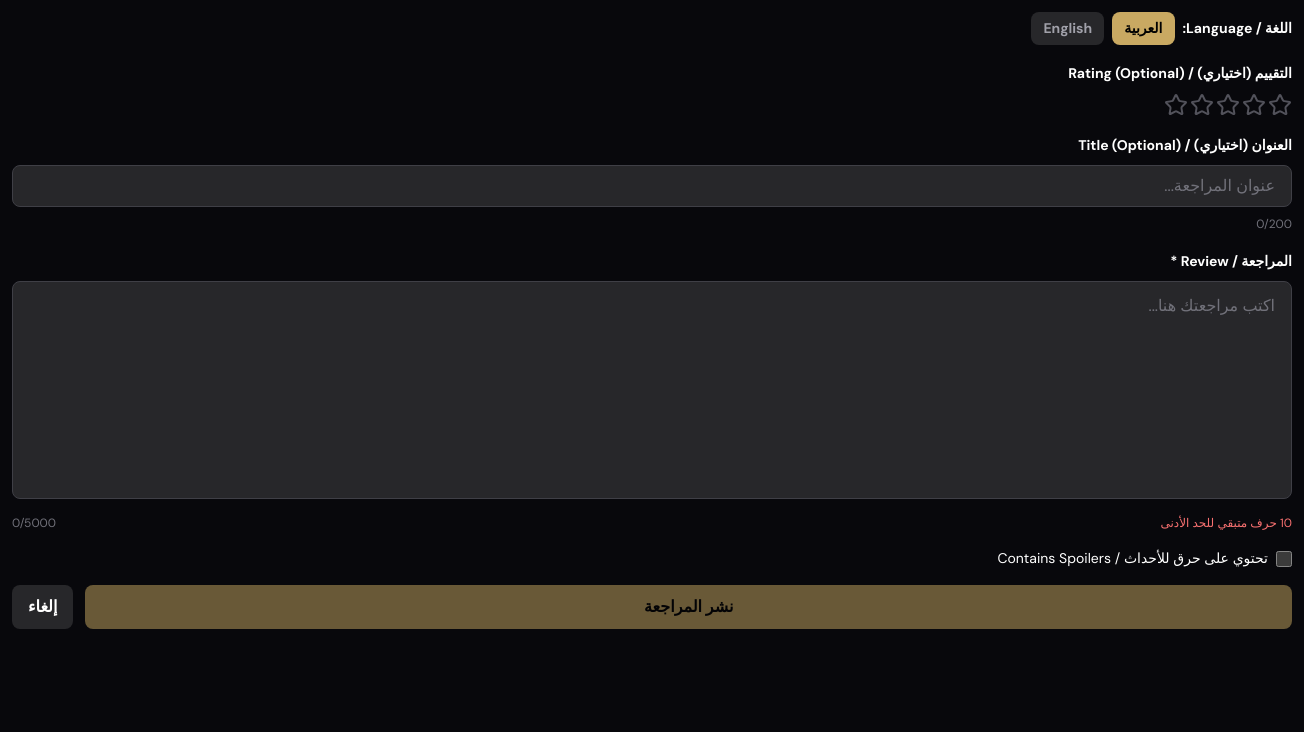
Test: ReviewForm - Validation › should enable submit button when review text is valid
Type "This is a valid review text that is long enough." into the text box with placeholder "اكتب مراجعتك هنا...".
click(652, 390); type("This is a valid review text that is long enough.")  # box [12,281,1292,499]
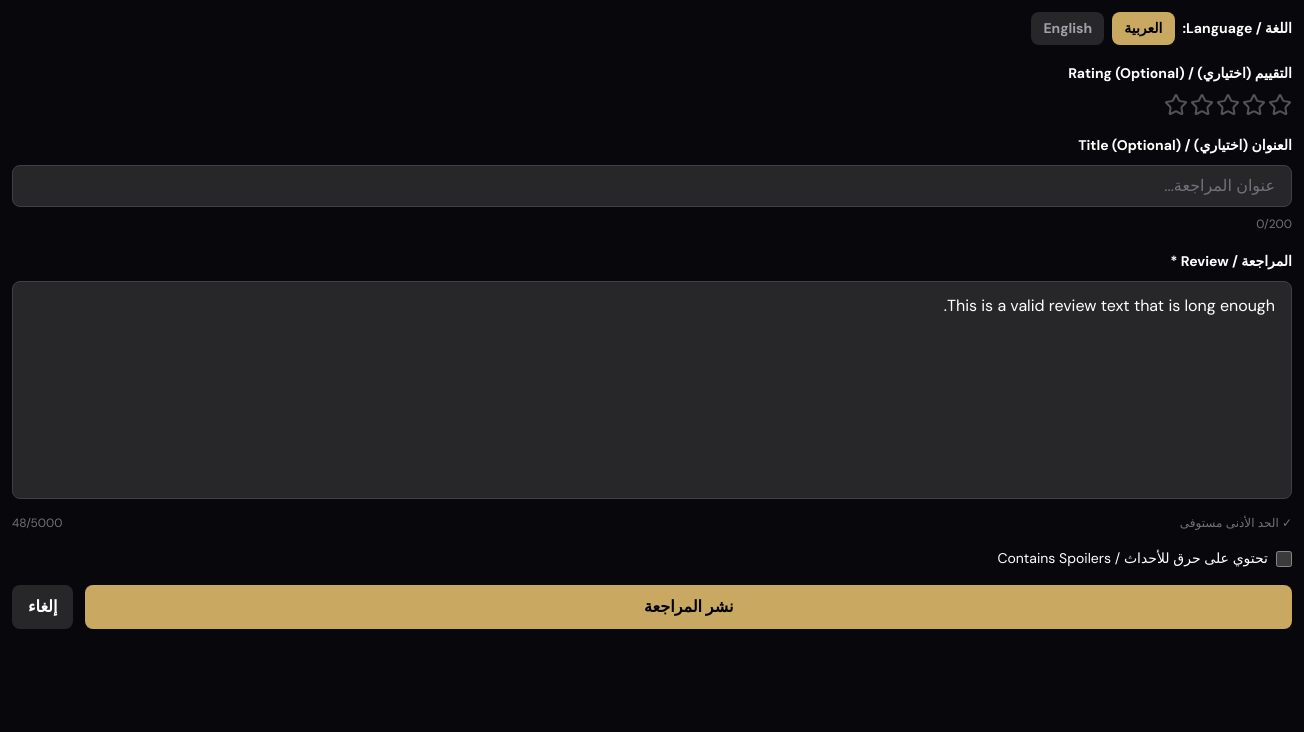
Expected: the button "نشر المراجعة" is enabled, [85,585,1292,629]
